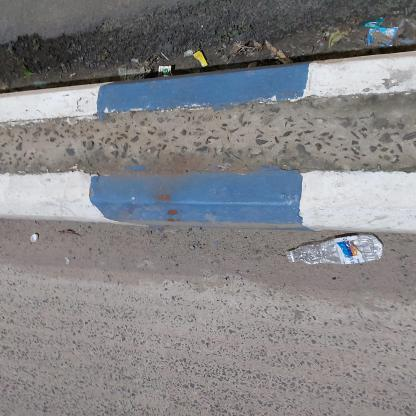plastik: (150, 284, 183, 384), (174, 30, 182, 38)
